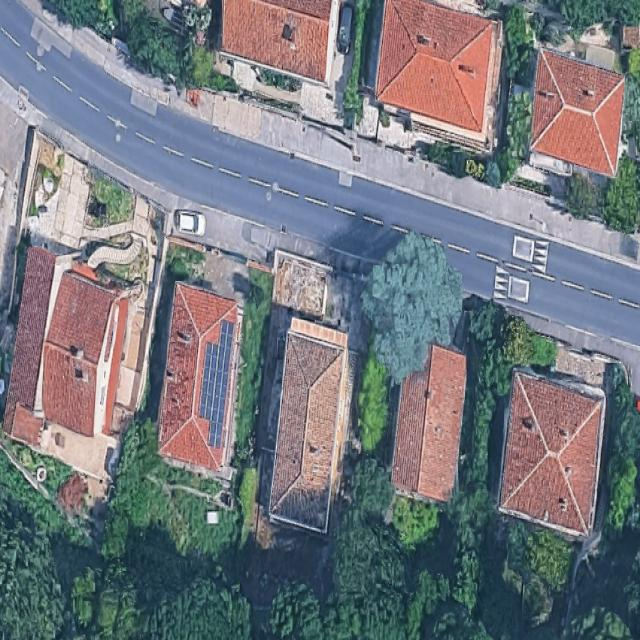maison: (0, 246, 135, 457), (367, 0, 507, 151), (496, 369, 607, 538), (152, 282, 248, 474), (267, 318, 351, 532), (389, 341, 469, 502), (527, 49, 626, 176), (223, 0, 338, 86)
